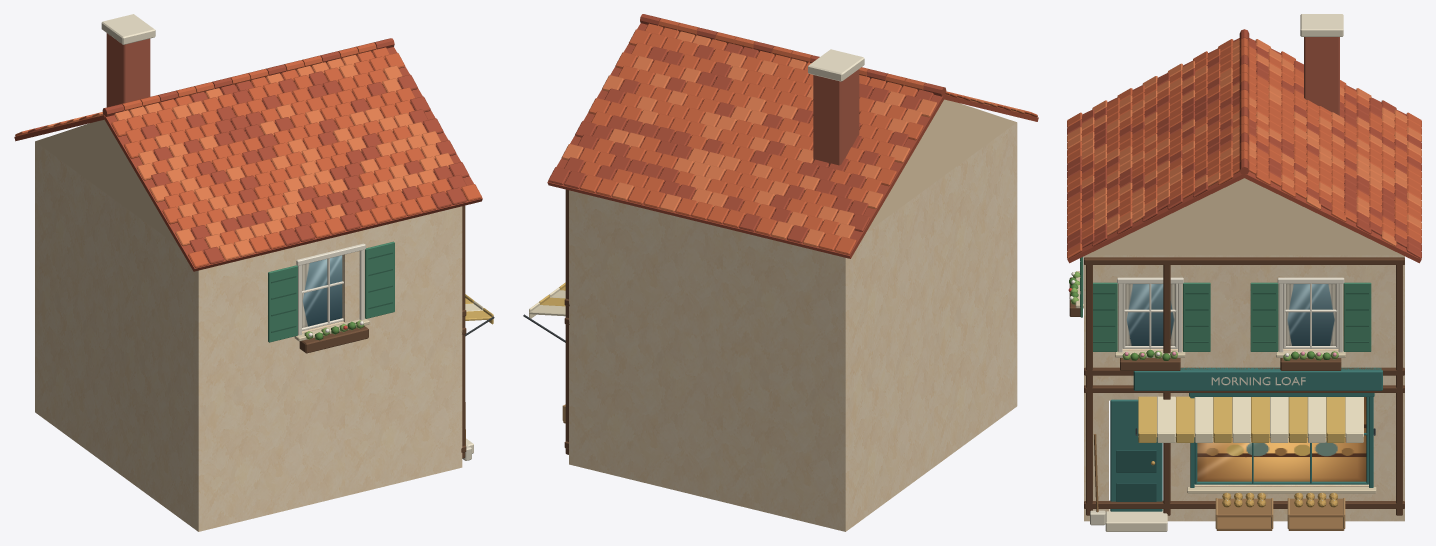
The picture shows the model from 3 angles, left to right: view 1: azimuth 30°, elevation 25°; view 2: azimuth 150°, elevation 25°; view 3: azimuth 270°, elevation 25°; orthographic projection. The views are drawn at different scales.
Visible parts, largest first — view 1: loft_ochre_plaster, square_terracotta, square_terracotta_dark, square_terracotta_light, square_shutter, square_brick, square_window_pane, square_white, square_limestone_pale, square_timber, square_wood_dark; view 2: loft_ochre_plaster, square_terracotta, square_terracotta_dark, square_terracotta_light, square_brick, square_limestone_pale, square_timber; view 3: loft_ochre_plaster, square_terracotta, square_terracotta_dark, square_terracotta_light, square_teal, square_timber, square_shutter, square_window_shop, square_window_pane, square_cloth_ochre, square_stripe_cream, square_white (+11 smaller).
Boxes of the visible parts, x1,y1,x2,y2 form: loft_ochre_plaster: [35, 119, 462, 531]; square_terracotta: [15, 42, 481, 267]; square_terracotta_dark: [14, 38, 482, 271]; square_terracotta_light: [40, 55, 453, 260]; square_shutter: [268, 241, 394, 342]; square_brick: [106, 33, 150, 107]; square_window_pane: [302, 255, 342, 327]; square_white: [296, 243, 365, 335]; square_limestone_pale: [101, 14, 473, 453]; square_timber: [461, 205, 466, 458]; square_wood_dark: [299, 326, 368, 353]; loft_ochre_plaster: [569, 99, 1017, 531]; square_terracotta: [579, 18, 1037, 254]; square_terracotta_dark: [547, 14, 1038, 258]; square_terracotta_light: [561, 31, 1024, 247]; square_brick: [813, 69, 859, 165]; square_limestone_pale: [808, 49, 864, 81]; square_timber: [564, 189, 569, 454]; loft_ochre_plaster: [1084, 178, 1404, 521]; square_terracotta: [1067, 38, 1421, 258]; square_terracotta_dark: [1067, 29, 1421, 263]; square_terracotta_light: [1067, 39, 1421, 246]; square_teal: [1110, 367, 1382, 511]; square_timber: [1084, 257, 1404, 515]; square_shutter: [1080, 257, 1371, 351]; square_window_shop: [1197, 397, 1366, 481]; square_window_pane: [1125, 284, 1335, 345]; square_cloth_ochre: [1138, 396, 1345, 442]; square_stripe_cream: [1157, 396, 1363, 442]; square_white: [1083, 256, 1344, 352].
Bounding box in the file's own units: 6.87 × 7.93 × 6.41.
30 materials, 3 textured.
